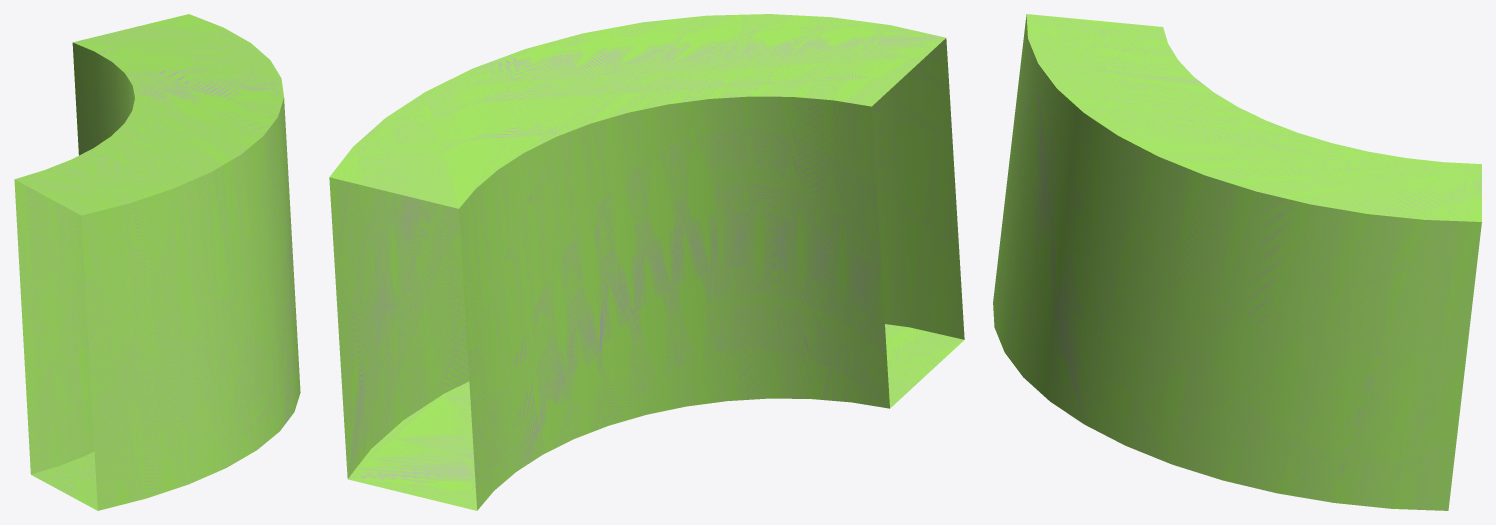
File: original-17.obj
3 renders of one model, left to right at view 1: azimuth 30°, elevation 25°; view 2: azimuth 150°, elevation 25°; view 3: azimuth 270°, elevation 25°, orthographic. The views are drawn at different scales.
Parts seen in each view (by area): view 1: 3dw.eb6176d02ba79f0640010f30b5cd77ee/Model/mesh1/mesh1-geometry/; view 2: 3dw.eb6176d02ba79f0640010f30b5cd77ee/Model/mesh1/mesh1-geometry/; view 3: 3dw.eb6176d02ba79f0640010f30b5cd77ee/Model/mesh1/mesh1-geometry/.
Boxes of the visible parts, x1=… form: 3dw.eb6176d02ba79f0640010f30b5cd77ee/Model/mesh1/mesh1-geometry/: x1=14, y1=14, x2=300, y2=510; 3dw.eb6176d02ba79f0640010f30b5cd77ee/Model/mesh1/mesh1-geometry/: x1=329, y1=14, x2=964, y2=510; 3dw.eb6176d02ba79f0640010f30b5cd77ee/Model/mesh1/mesh1-geometry/: x1=993, y1=14, x2=1481, y2=510.
Size of the model in its own units: 0.0275 by 0.0254 by 0.0339.
